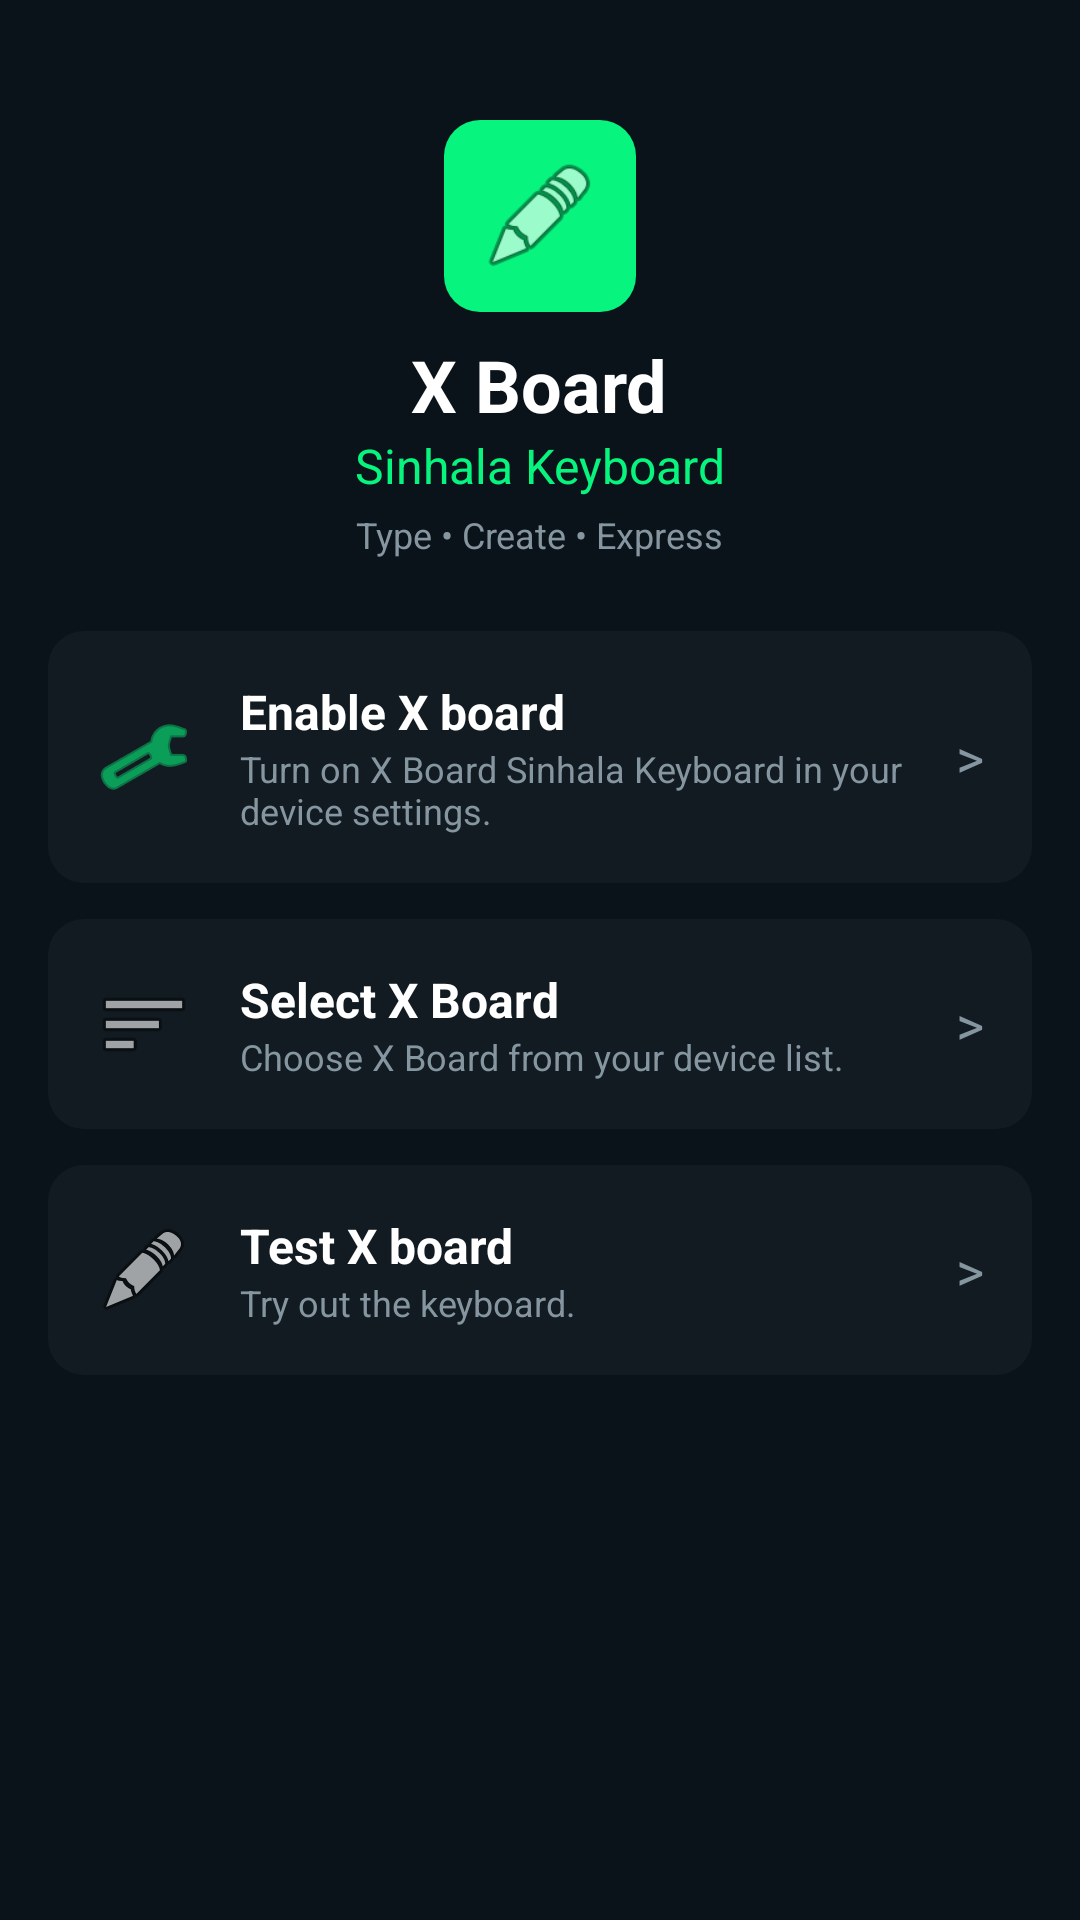

Icon bounding boxes for this 1080px×1920px phone screenshot, format (x1, y1, x2, y2):
edit: (444, 120, 636, 312), (106, 1232, 181, 1307)
manage: (101, 724, 187, 790)
sort by size: (106, 1001, 182, 1048)
